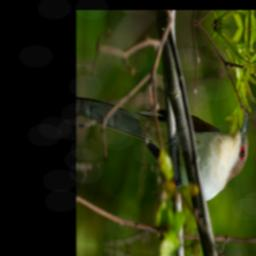Cuckoo: (79, 90, 251, 211)
